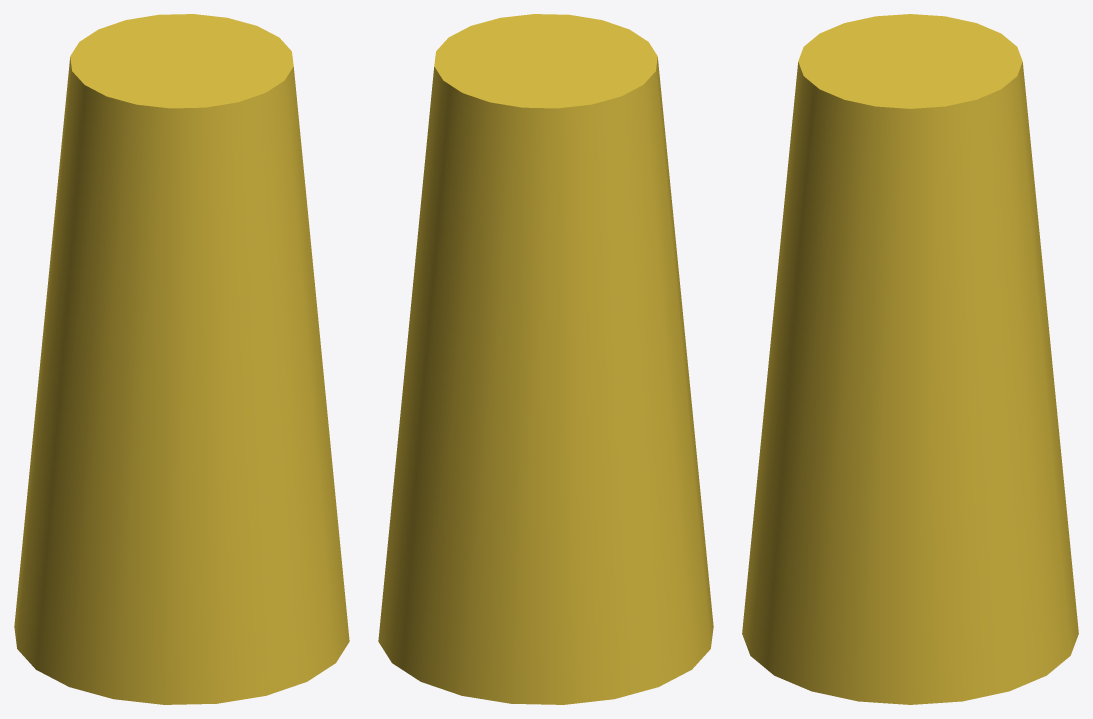
The model's file is banana_projectile.gltf.
The picture shows the model from 3 angles, left to right: view 1: azimuth 30°, elevation 25°; view 2: azimuth 150°, elevation 25°; view 3: azimuth 270°, elevation 25°; orthographic projection.
Size of the model in its own units: 0.24 by 0.45 by 0.24.
